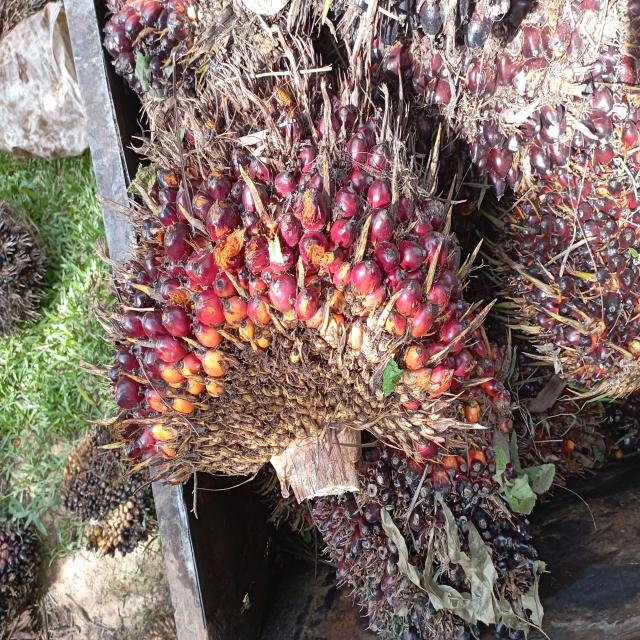fraksi 00: (306, 412, 558, 640)
fraksi 1: (83, 45, 508, 494)
